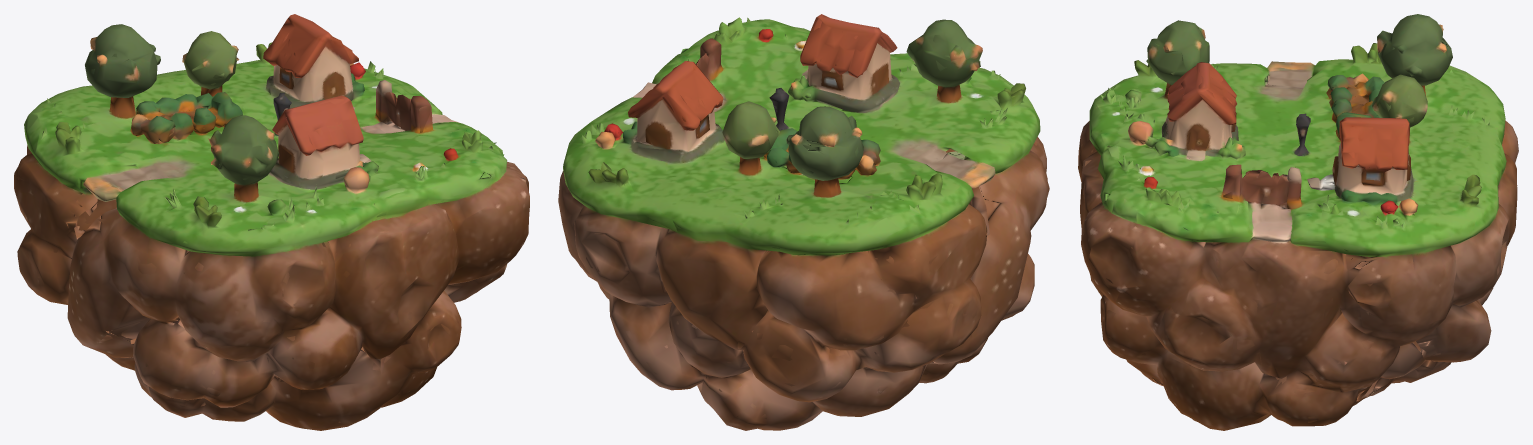
File: isle-orchard.glb
The picture shows the model from 3 angles, left to right: view 1: azimuth 30°, elevation 25°; view 2: azimuth 150°, elevation 25°; view 3: azimuth 270°, elevation 25°; orthographic projection. The views are drawn at different scales.
Size of the model in its own units: 12 by 9.76 by 11.93.
Materials: 1 (1 with a texture image).
